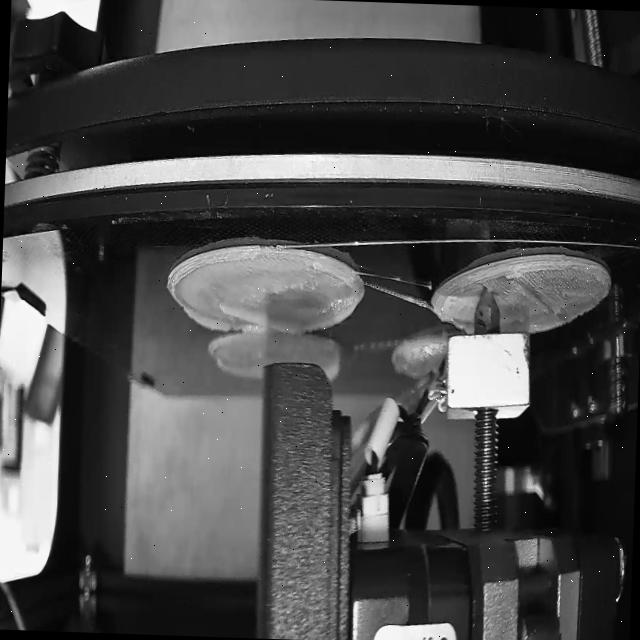over_extrusion: (180, 297, 296, 336), (307, 284, 360, 334)
